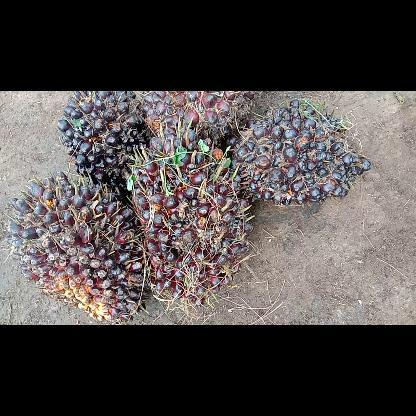TBS mentah: (124, 122, 256, 308), (5, 168, 153, 324), (229, 98, 373, 208), (53, 90, 148, 196), (139, 91, 261, 151)
